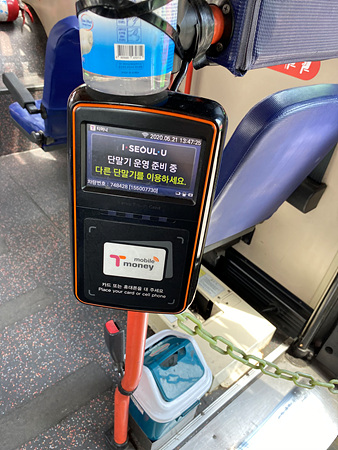terminal: (67, 88, 208, 317)
